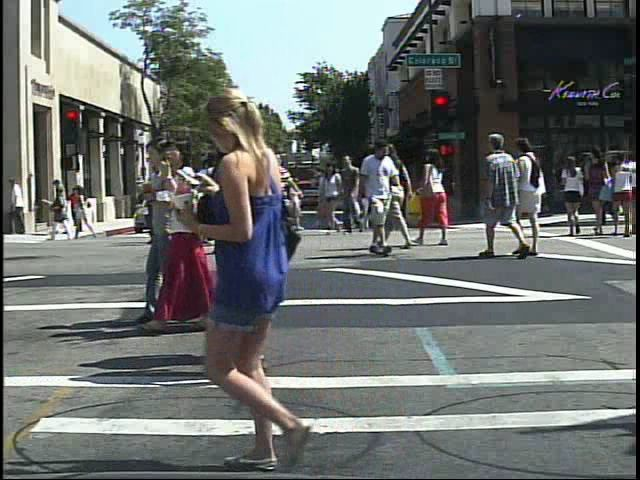person: (181, 77, 363, 477), (159, 119, 282, 381), (138, 134, 241, 343), (232, 105, 304, 366), (136, 130, 180, 332), (356, 133, 401, 259), (481, 127, 521, 263), (205, 142, 246, 260), (515, 133, 553, 260), (245, 150, 288, 261), (415, 143, 457, 251), (261, 147, 304, 250), (381, 136, 416, 251), (221, 150, 258, 252), (191, 153, 229, 252), (559, 150, 591, 239), (166, 172, 186, 240), (68, 182, 88, 232)
